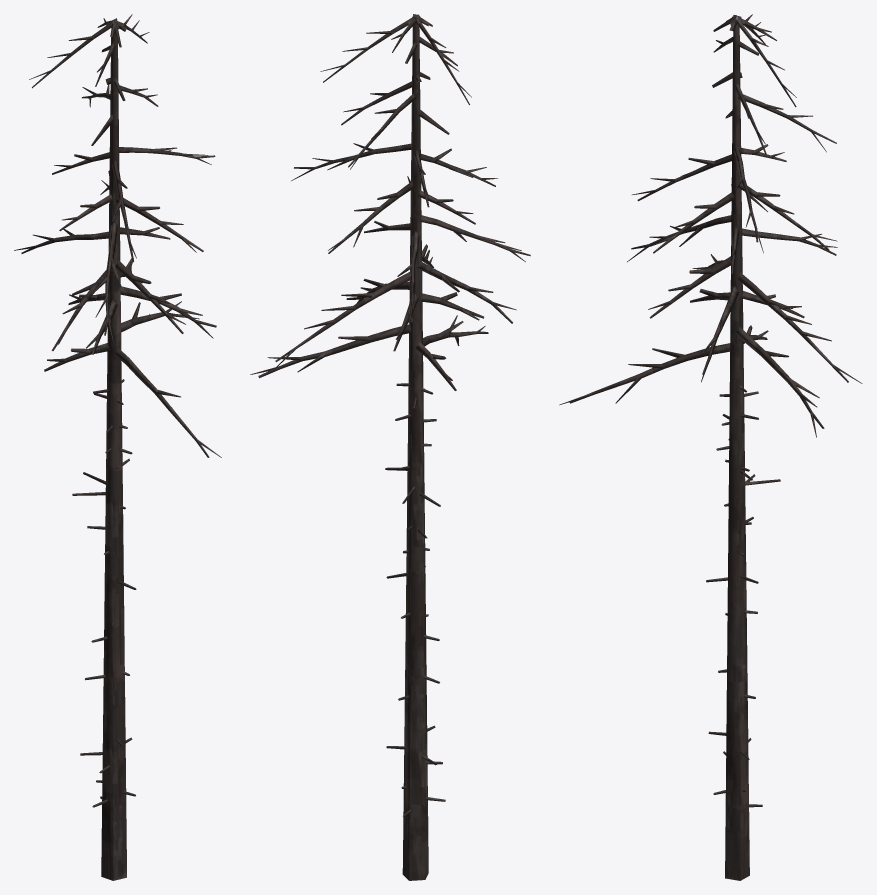
The model's file is tronc_ki_tombe2.fbx.
3 renders of one model, left to right at view 1: azimuth 30°, elevation 25°; view 2: azimuth 150°, elevation 25°; view 3: azimuth 270°, elevation 25°, orthographic.
Visible parts, largest first — view 1: polySurface2; view 2: polySurface2; view 3: polySurface2.
Part boxes in pixels (bbox=[...]): polySurface2: bbox=[14, 14, 221, 880]; polySurface2: bbox=[250, 14, 530, 880]; polySurface2: bbox=[559, 14, 862, 880].
Size of the model in its own units: 12.08 by 48.3 by 15.42.
Materials: 1 (1 with a texture image).
